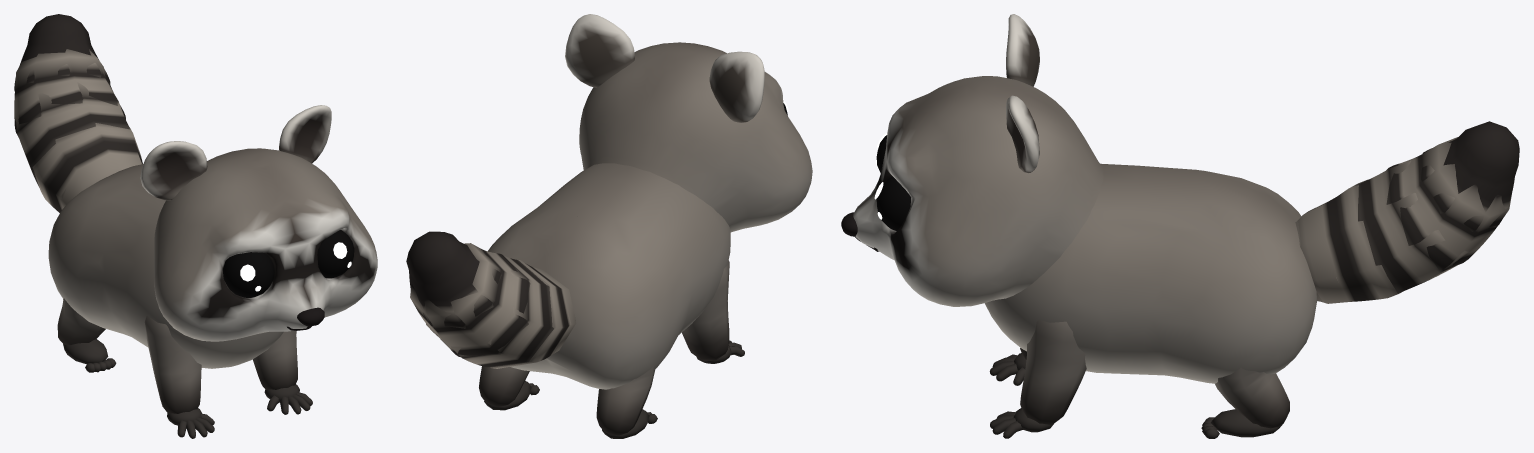
Rendered from kit.glb.
3 views of the same model, side by side, from view 1: azimuth 30°, elevation 25°; view 2: azimuth 150°, elevation 25°; view 3: azimuth 270°, elevation 25° (orthographic). The views are drawn at different scales.
Visible parts, largest first — view 1: Head, Body, Tail2, Tail4, LegFR, Tail3, EarR, LegFL, Tail5, LegBR, EarL, EyeR (+2 smaller); view 2: Body, Head, Tail4, Tail5, EarL, Tail3, EarR, LegBR, LegFR, Tail2, LegBL; view 3: Body, Head, Tail4, Tail2, LegFL, Tail3, Tail5, LegBL, EarR, EarL, EyeL, LegFR.
Boxes of the visible parts, box(x1,y1,x2,y2) form: Head: box(154, 148, 377, 341); Body: box(48, 164, 283, 368); Tail2: box(32, 123, 142, 212); Tail4: box(14, 49, 125, 137); LegFR: box(144, 316, 214, 438); Tail3: box(15, 82, 129, 187); EarR: box(140, 141, 207, 200); LegFL: box(252, 330, 312, 414); Tail5: box(14, 14, 110, 91); LegBR: box(57, 298, 116, 372); EarL: box(279, 105, 331, 163); EyeR: box(223, 252, 274, 297); Body: box(488, 163, 730, 389); Head: box(579, 42, 812, 232); Tail4: box(410, 243, 530, 357); Tail5: box(406, 231, 501, 328); EarL: box(565, 14, 634, 87); Tail3: box(426, 256, 553, 367); EarR: box(709, 51, 764, 122); LegBR: box(596, 365, 657, 438); LegFR: box(682, 260, 744, 363); Tail2: box(490, 259, 576, 368); LegBL: box(479, 366, 539, 410); Body: box(984, 163, 1316, 383); Head: box(853, 76, 1103, 306); Tail4: box(1386, 137, 1511, 270); Tail2: box(1297, 179, 1401, 303); LegFL: box(990, 320, 1086, 438); Tail3: box(1355, 161, 1468, 293); Tail5: box(1419, 121, 1519, 231); LegBL: box(1201, 367, 1289, 438); EarR: box(1006, 14, 1039, 86); EarL: box(1006, 95, 1039, 173); EyeL: box(874, 176, 910, 230); LegFR: box(989, 348, 1026, 385).
Size of the model in its own units: 0.1359 by 0.1849 by 0.3312.
